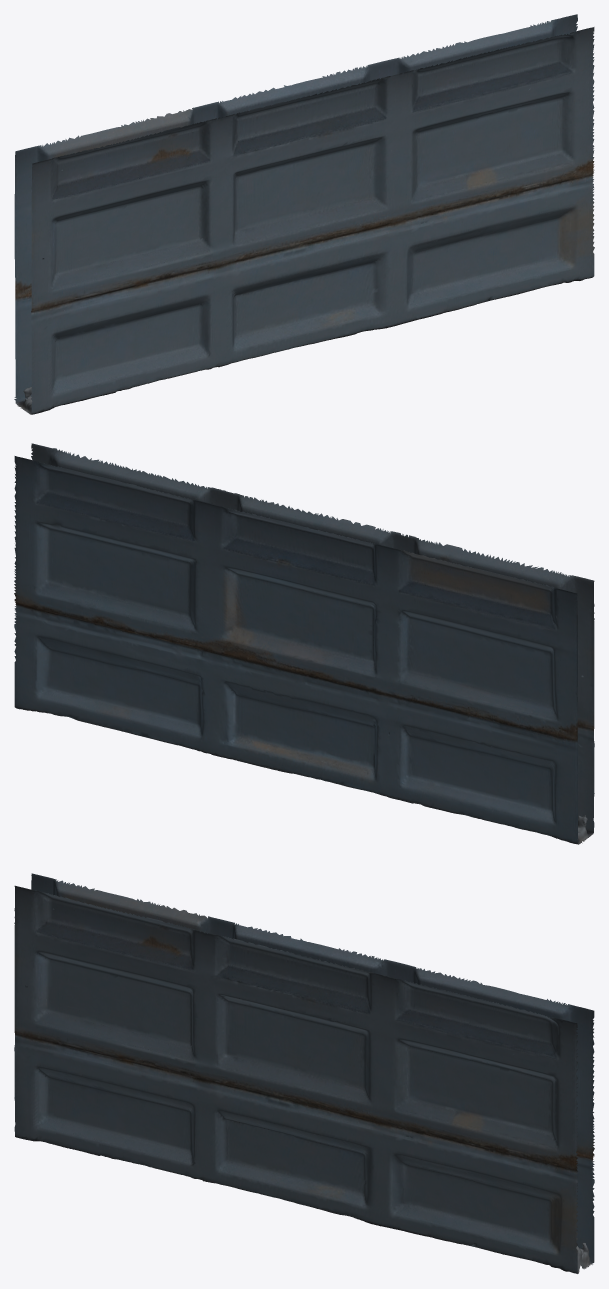
Rendered from Garage_Shutter.fbx.
The picture shows the model from 3 angles, top to bottom: view 1: azimuth 30°, elevation 25°; view 2: azimuth 150°, elevation 25°; view 3: azimuth 330°, elevation 25°; orthographic projection.
Visible parts, largest first — view 1: Garage_Shutter; view 2: Garage_Shutter; view 3: Garage_Shutter.
Part boxes in pixels (box(x1,y1,x2,y2)): Garage_Shutter: box(14, 14, 594, 414); Garage_Shutter: box(14, 443, 594, 844); Garage_Shutter: box(14, 873, 594, 1273).
Bounding box in the file's own units: 163 × 69.83 × 9.08.
Materials: 1 (1 with a texture image).
